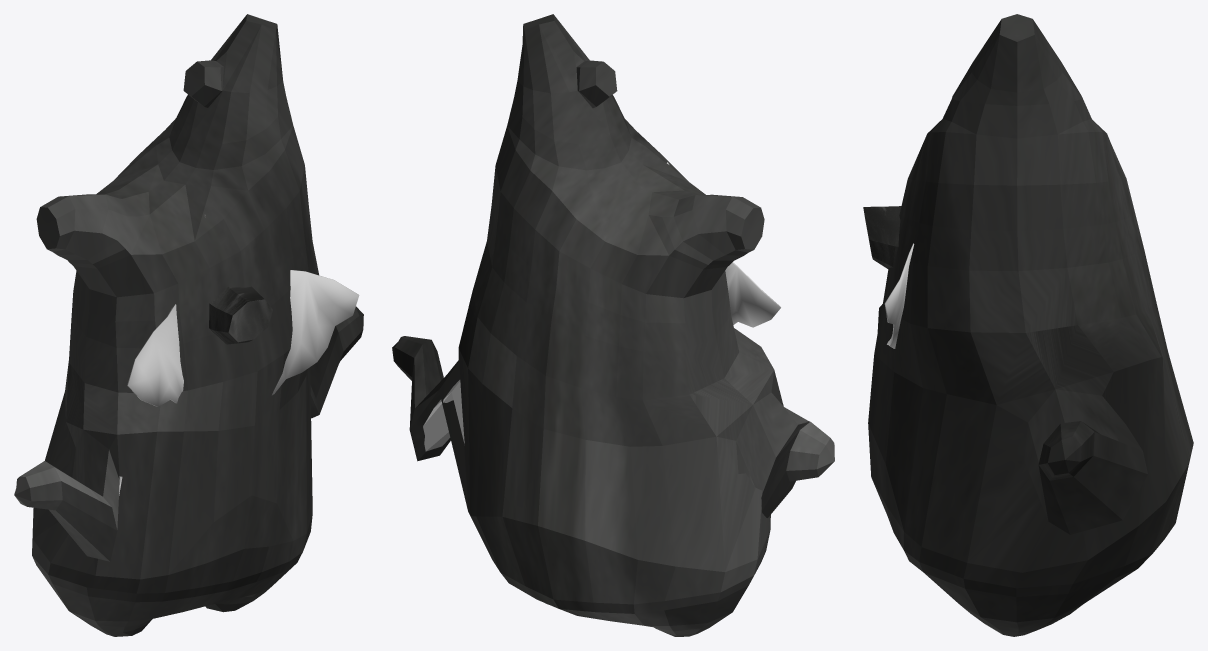
Rendered from frame_0027.obj.
The picture shows the model from 3 angles, left to right: view 1: azimuth 30°, elevation 25°; view 2: azimuth 150°, elevation 25°; view 3: azimuth 270°, elevation 25°; orthographic projection. The views are drawn at different scales.
Parts seen in each view (by area): view 1: korok, leaf, nose; view 2: korok, leaf; view 3: korok, nose, leaf.
Part boxes in pixels (box(x1,y1,x2,y2)): korok: box(14, 14, 363, 636); leaf: box(127, 214, 359, 406); nose: box(209, 286, 272, 344); korok: box(392, 14, 834, 636); leaf: box(667, 162, 780, 327); korok: box(868, 14, 1193, 636); nose: box(863, 206, 901, 268); leaf: box(884, 243, 914, 348).
Bounding box in the file's own units: 1.77 × 2.49 × 1.18.
